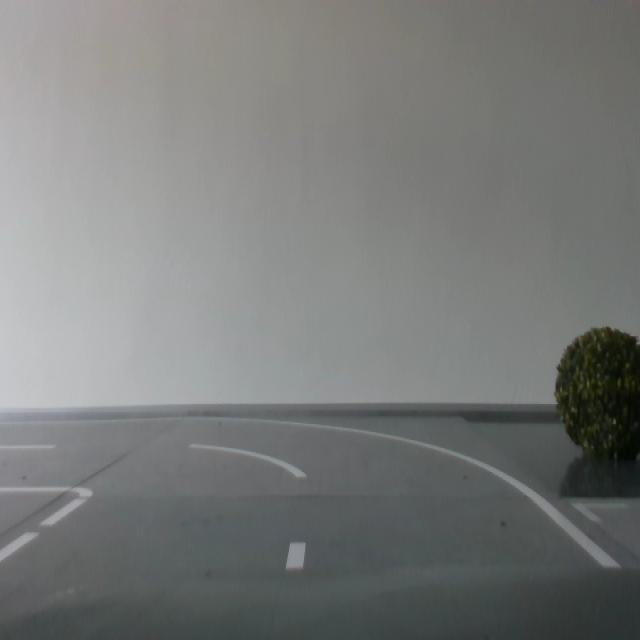potted plant: (554, 328, 640, 460)
